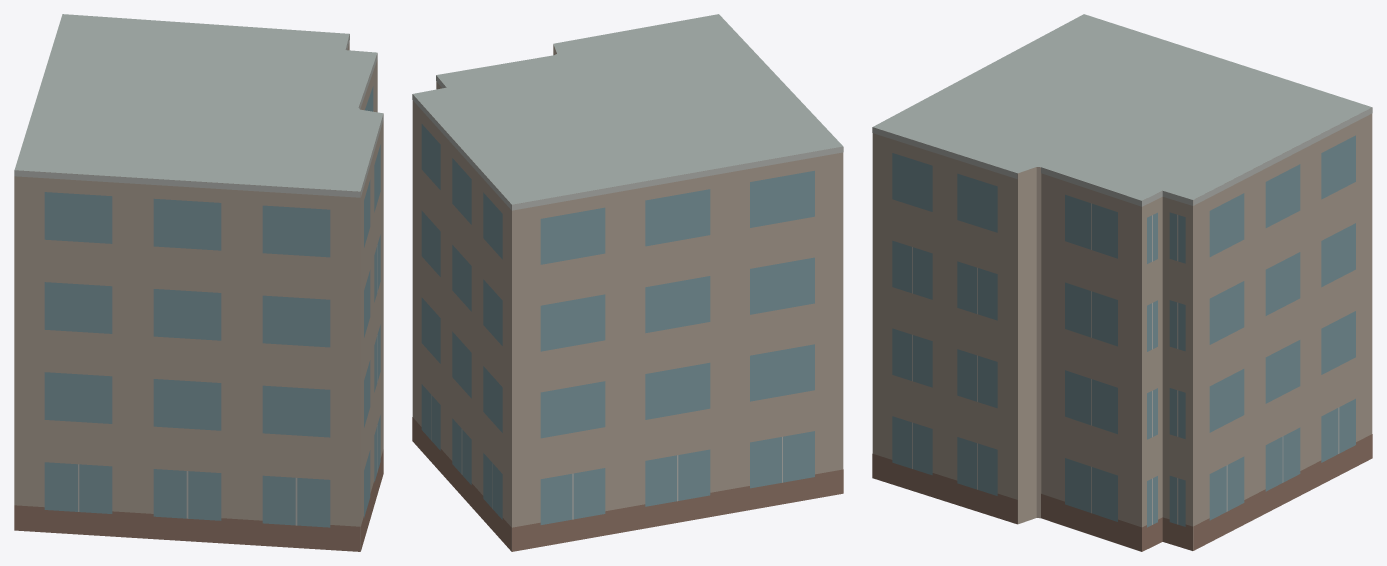
File: survey-upis-32865655.glb
The picture shows the model from 3 angles, left to right: view 1: azimuth 30°, elevation 25°; view 2: azimuth 150°, elevation 25°; view 3: azimuth 270°, elevation 25°; orthographic projection. The views are drawn at different scales.
Visible parts, largest first — view 1: survey-upis-32865655.tmp; view 2: survey-upis-32865655.tmp; view 3: survey-upis-32865655.tmp.
Boxes of the visible parts, <box> form: survey-upis-32865655.tmp: <box>14,14,383,551</box>; survey-upis-32865655.tmp: <box>412,14,843,551</box>; survey-upis-32865655.tmp: <box>872,14,1372,551</box>.
Size of the model in its own units: 16.33 by 14.3 by 18.47.
